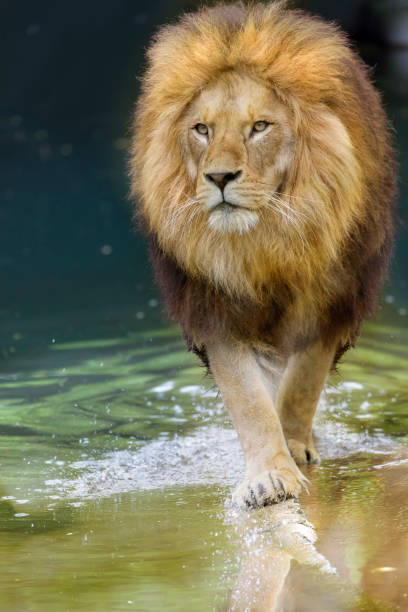lion: (110, 1, 408, 376)
